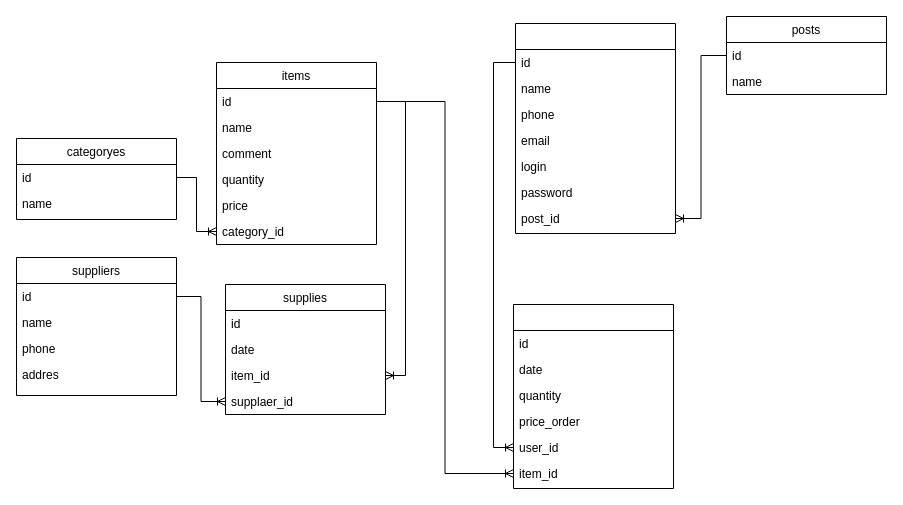
This 903x505 diagram has some shape labels left out. The shapes that lost their labels are listed below. From the top down, each one's box as (x1, y1, x2, y2) in pixels, then its label:
(514, 22, 676, 234): users
(512, 304, 674, 488): orders
